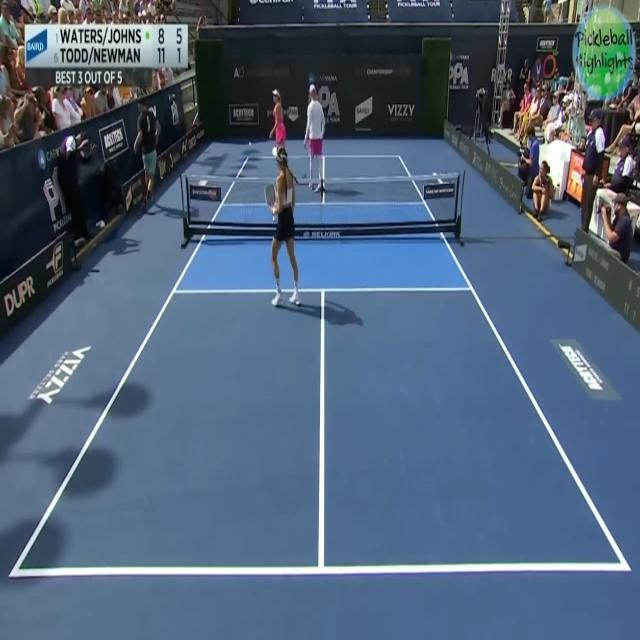Pickleball: (248, 138, 252, 146)
